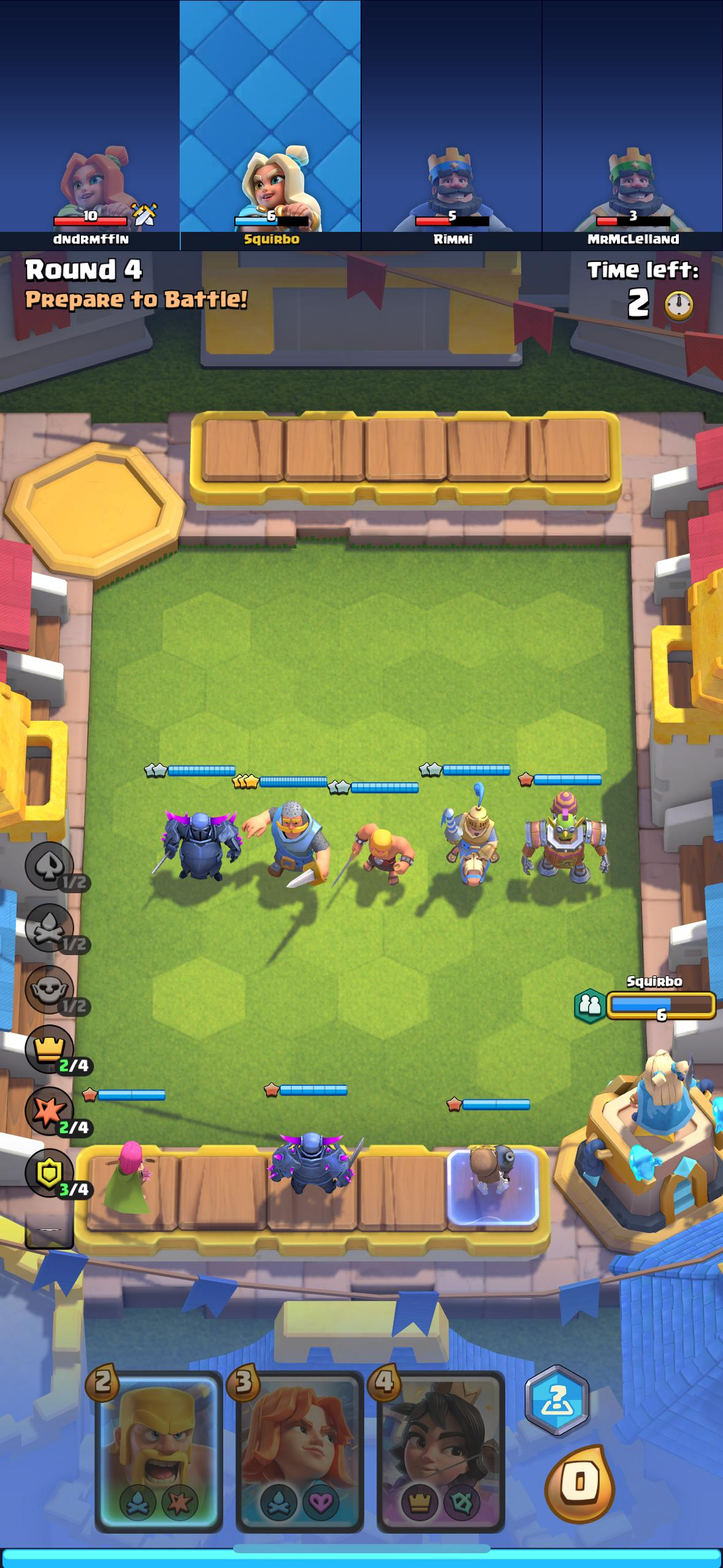archer: (100, 1130, 156, 1225)
barbarian: (347, 816, 414, 891)
bomber: (467, 1137, 518, 1202)
hand-barbarian: (96, 1374, 219, 1528)
hand-princess: (378, 1371, 505, 1530)
hand-valkyrie: (239, 1371, 360, 1528)
knight: (243, 792, 332, 898)
machine: (521, 787, 613, 898)
pekka: (267, 1115, 368, 1208), (160, 805, 244, 891)
prince: (439, 788, 505, 893)
